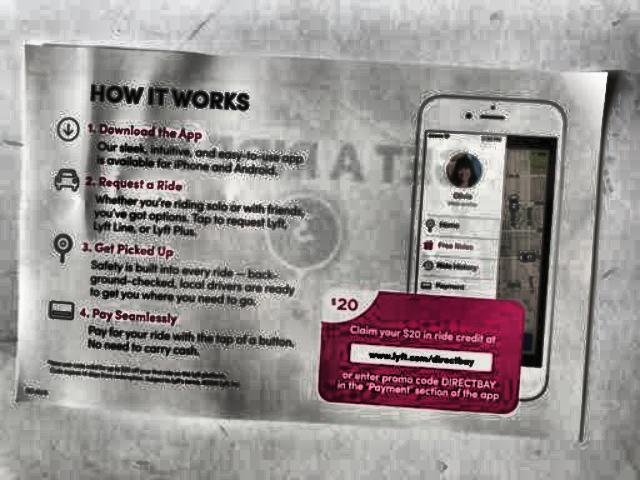Paper: (22, 43, 618, 450)
